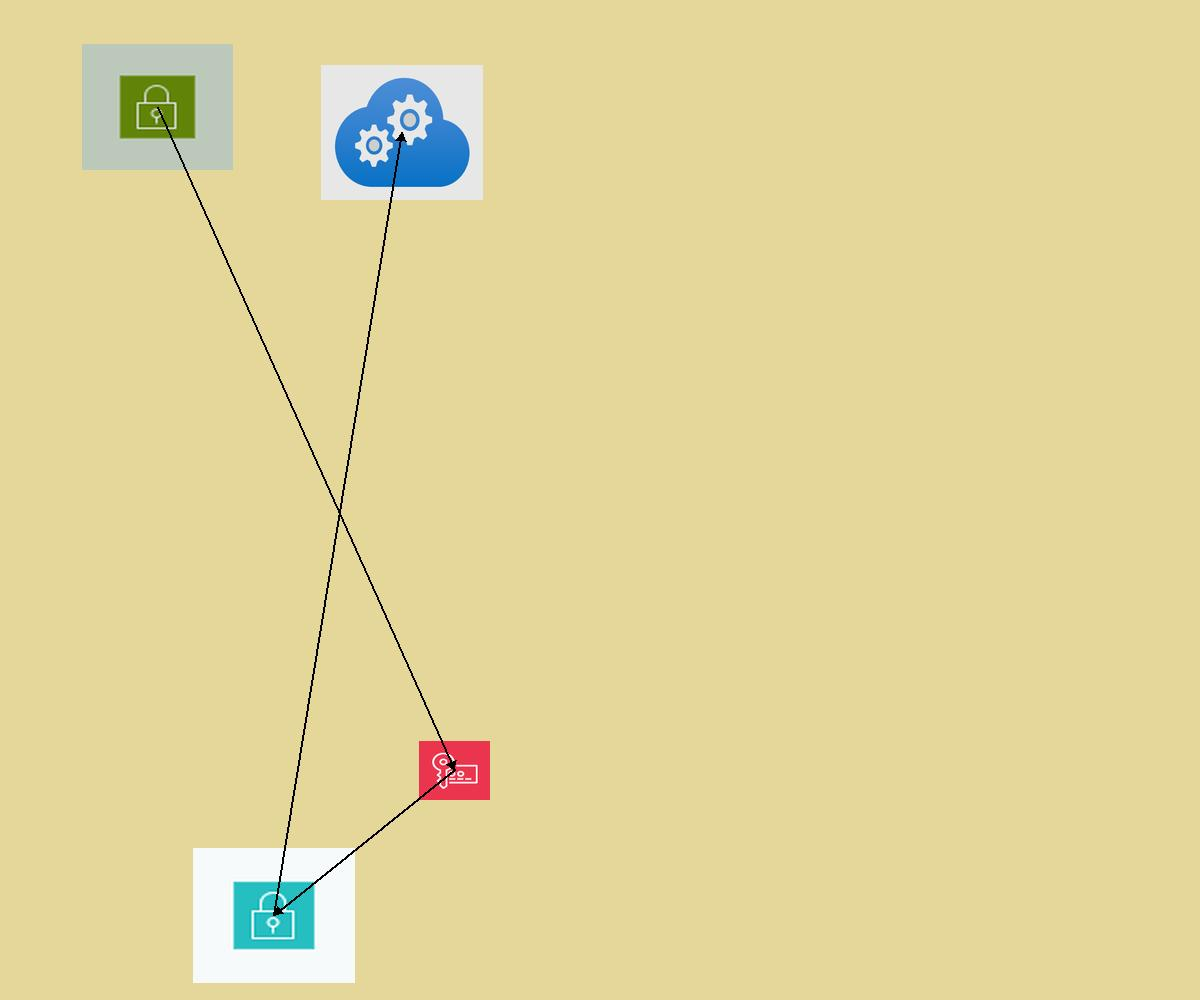AWS-Key-Management-Service: (419, 741, 490, 800)
AWS-Private-subnet: (193, 848, 355, 983)
AWS-Public-subnet: (82, 44, 233, 170)
Azure_cloud_services: (321, 65, 483, 200)
